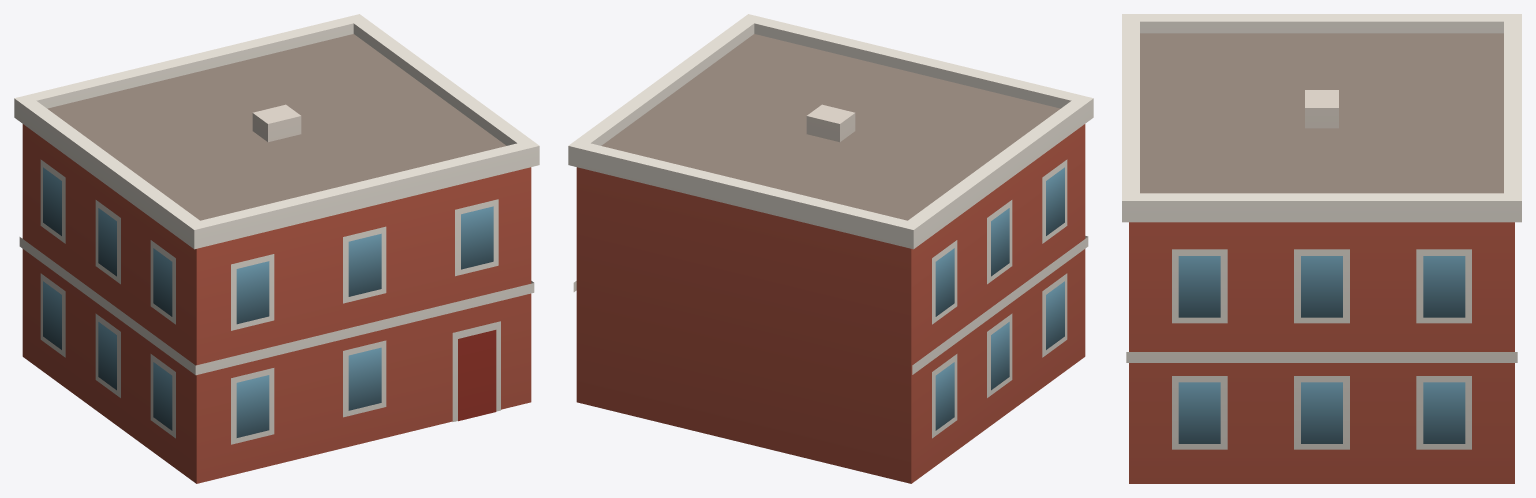
The model's file is vee_left0_far.glb.
3 views of the same model, side by side, from view 1: azimuth 30°, elevation 25°; view 2: azimuth 150°, elevation 25°; view 3: azimuth 270°, elevation 25° (orthographic). The views are drawn at different scales.
Visible parts, largest first — view 1: vee_left0_far; view 2: vee_left0_far; view 3: vee_left0_far.
Boxes of the visible parts, x1=… form: vee_left0_far: x1=14, y1=14, x2=539, y2=483; vee_left0_far: x1=568, y1=14, x2=1093, y2=483; vee_left0_far: x1=1122, y1=14, x2=1521, y2=483.
Size of the model in its own units: 10.32 by 7.57 by 9.32.
Materials: 1 (1 with a texture image).
